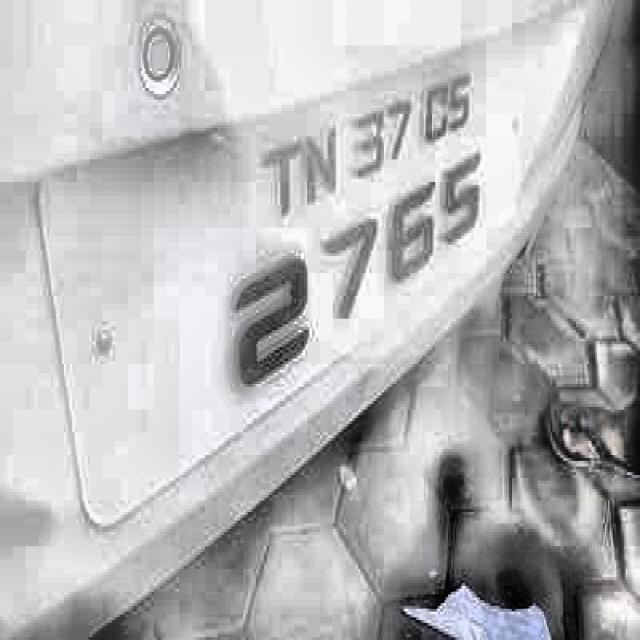license_plate: (138, 50, 521, 441)
